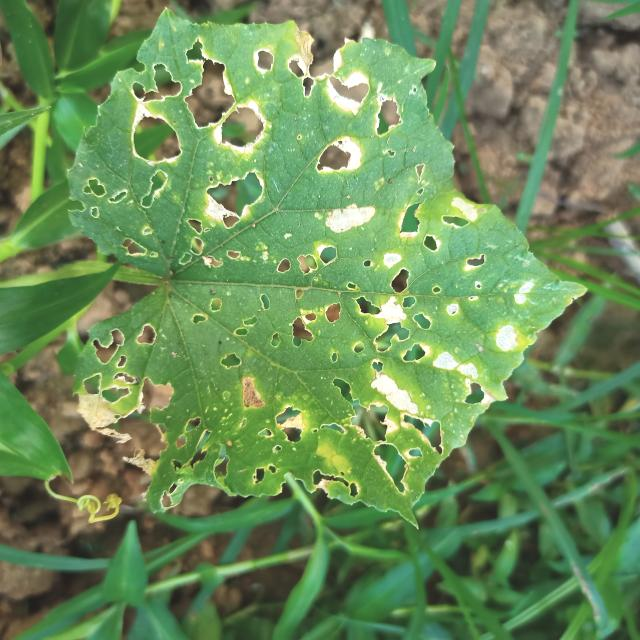disease_cucumber: (85, 44, 496, 468)
